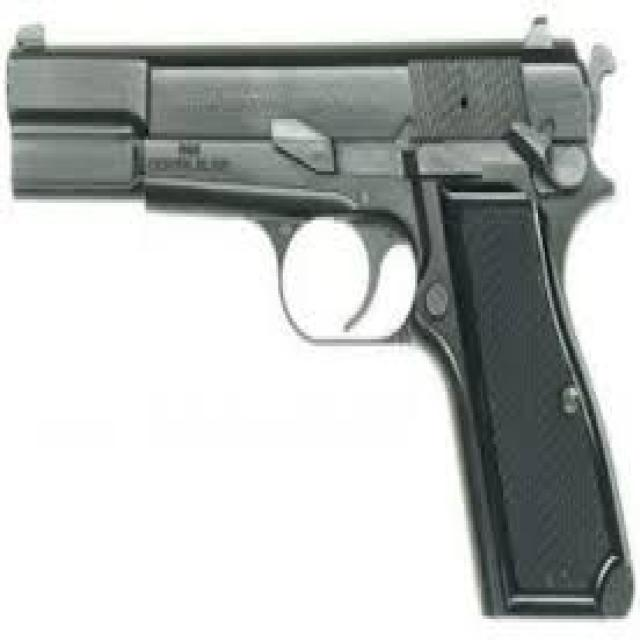pistol: (2, 2, 640, 635)
